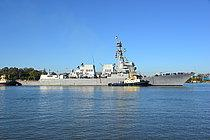MIL_Ship: (18, 36, 197, 86)
